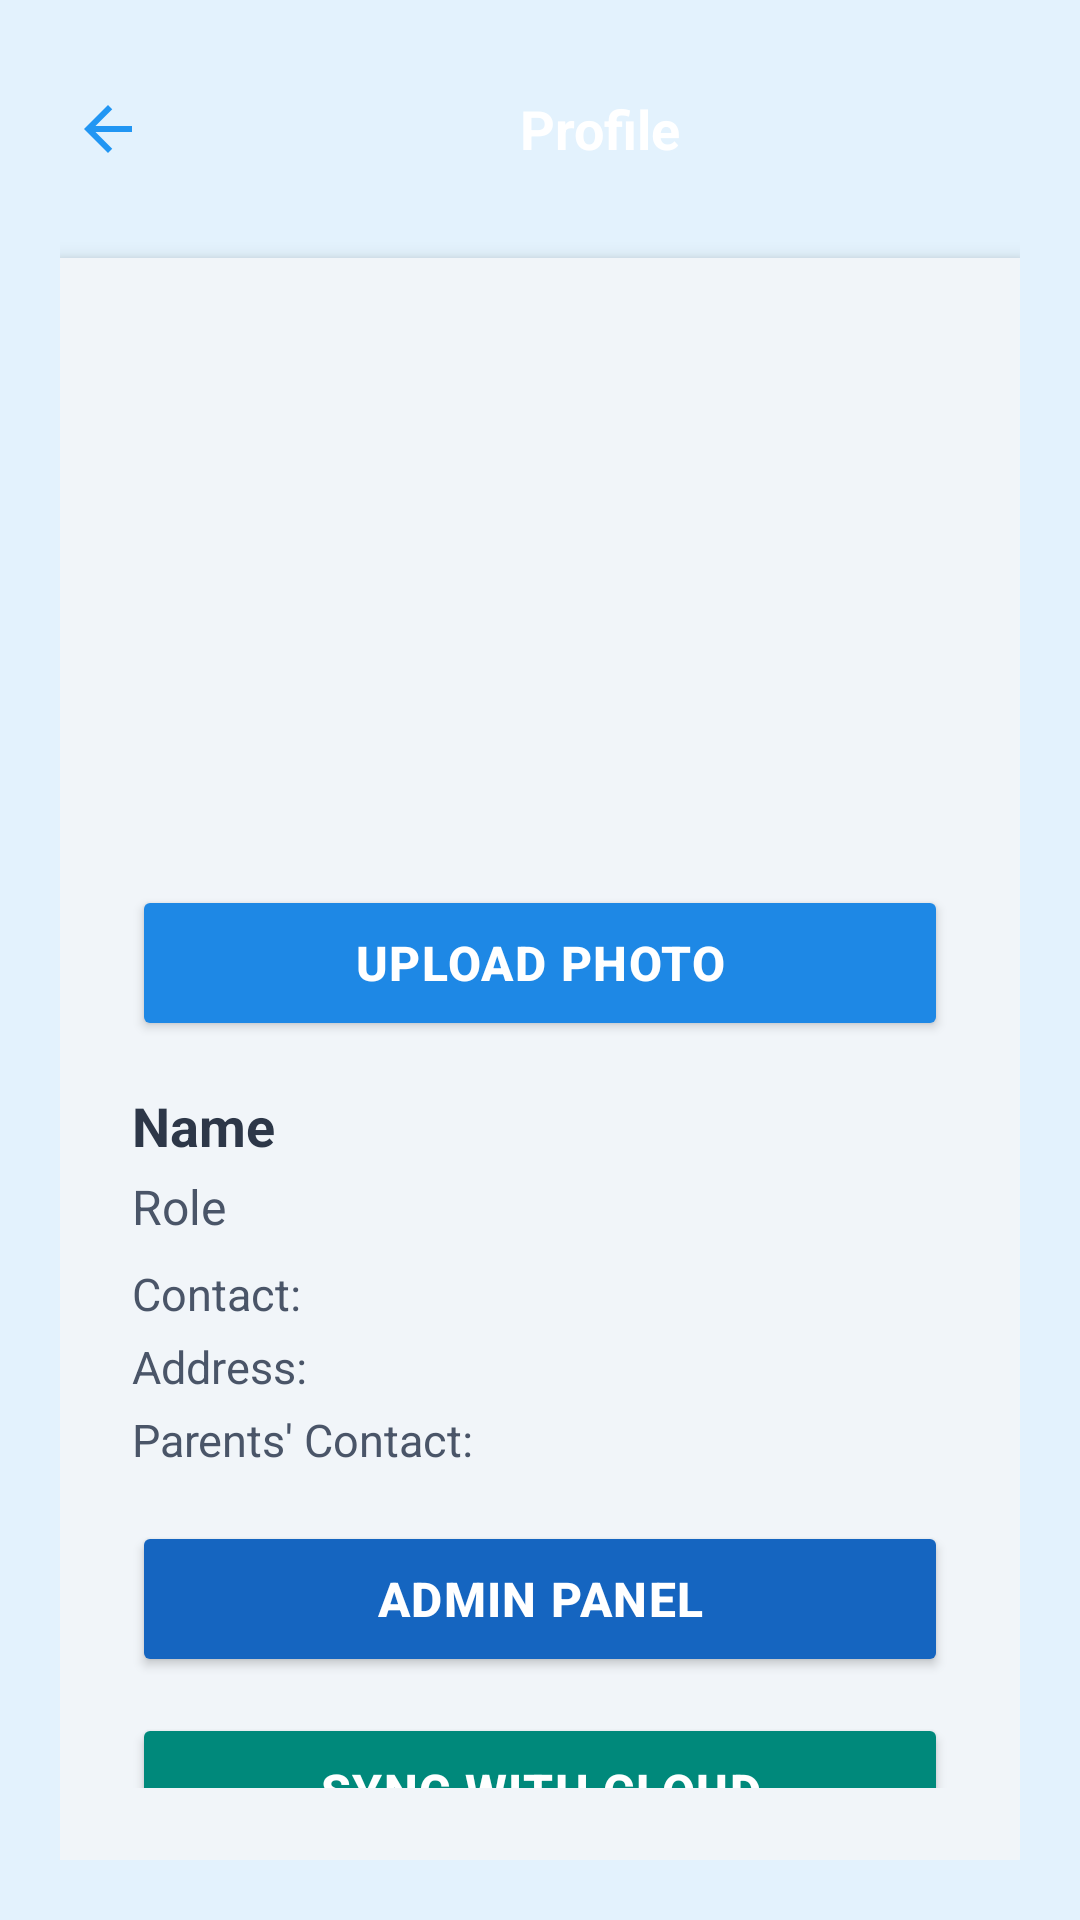

Screen size 1080×1920. Icon name, then its box in pixels as (x1, y1, x2, y2):
arrow back: (84, 105, 132, 153)
